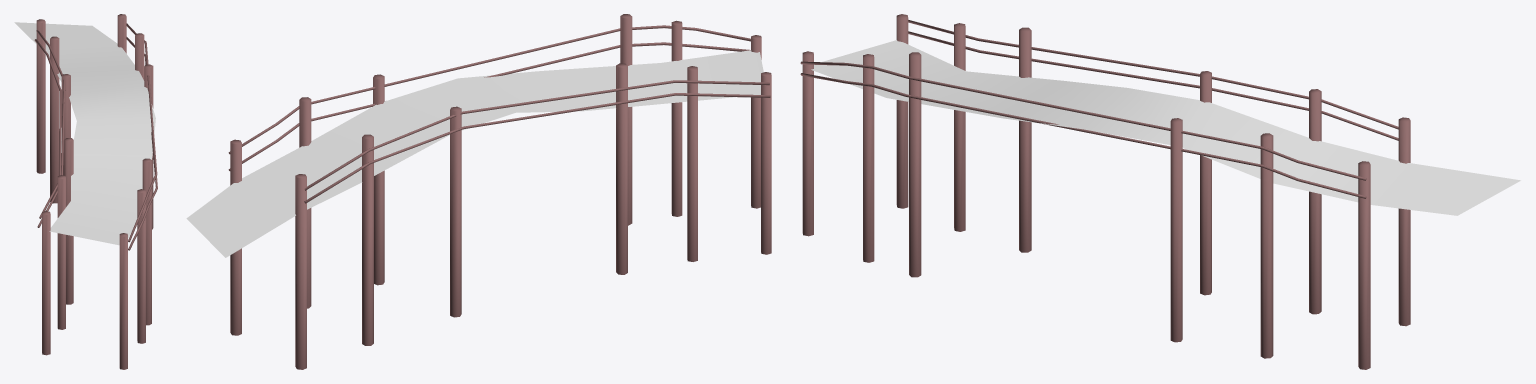
File: ponte02.FBX
3 views of the same model, side by side, from view 1: azimuth 30°, elevation 25°; view 2: azimuth 150°, elevation 25°; view 3: azimuth 270°, elevation 25° (orthographic). The views are drawn at different scales.
Visible parts, largest first — view 1: ponte; view 2: ponte; view 3: ponte.
Part boxes in pixels (box(x1,y1,x2,y2)): ponte: box(14, 14, 157, 369); ponte: box(186, 14, 771, 369); ponte: box(800, 14, 1520, 369).
Size of the model in its own units: 26.52 by 16.06 by 47.47.
